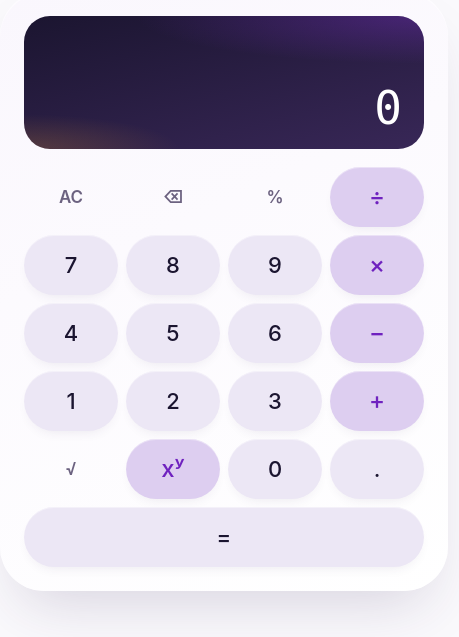
Calculator › computes a square root without sending a second operand
Click the button "9". click: coordinates (275, 265)
box: [228,235,322,295]
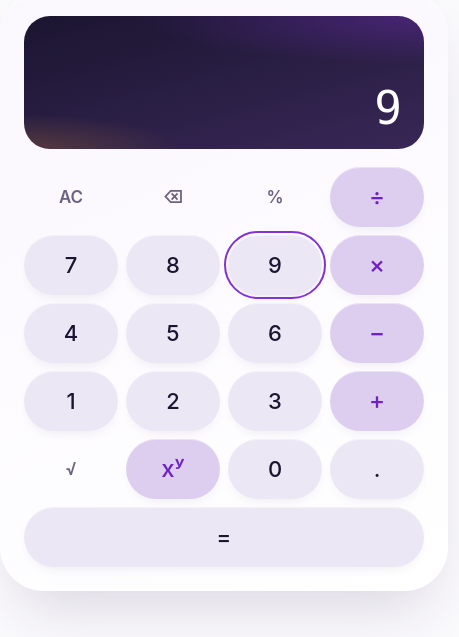
Click the button titled "Square root". click: coordinates (71, 469)
box: [24,439,118,499]
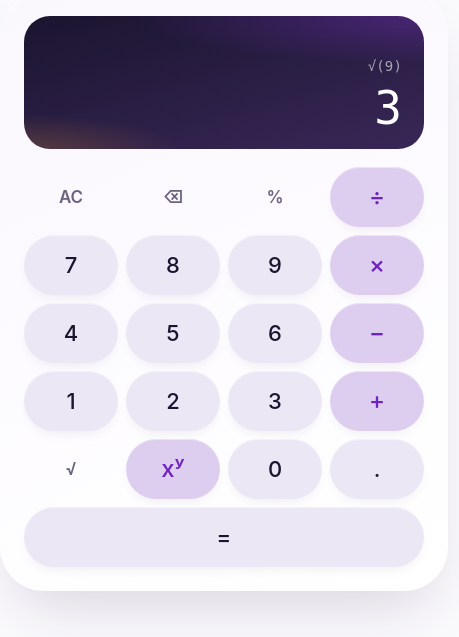
Expected: the text with test id "calculator-display" reads "3", [374,81,402,135]
